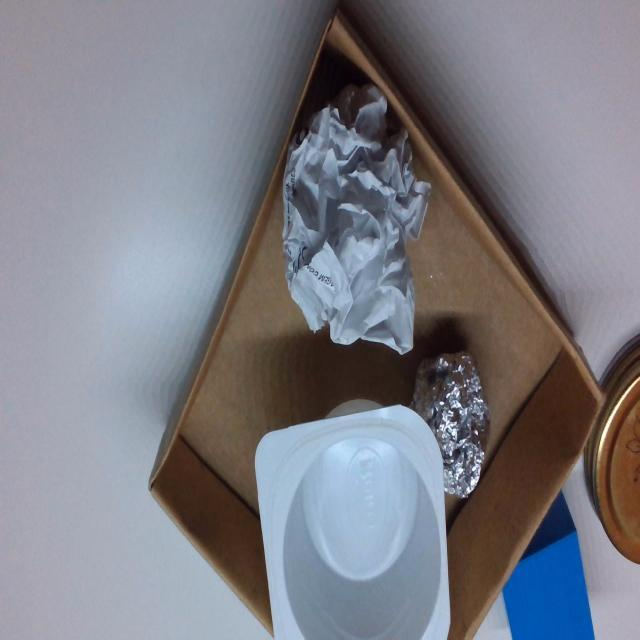Paper: (288, 98, 428, 353)
